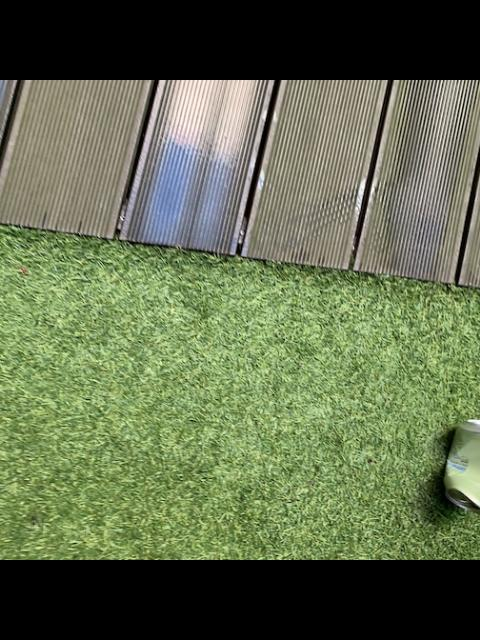metal: (445, 419, 480, 512)
